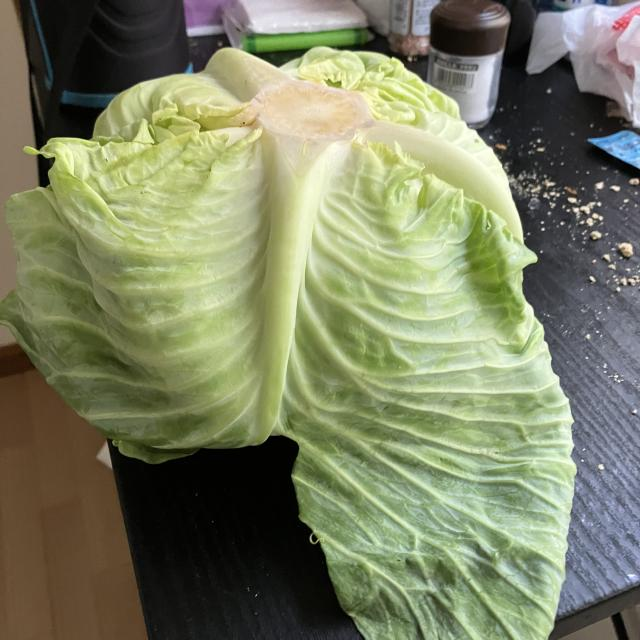cabbage: (0, 45, 578, 640)
